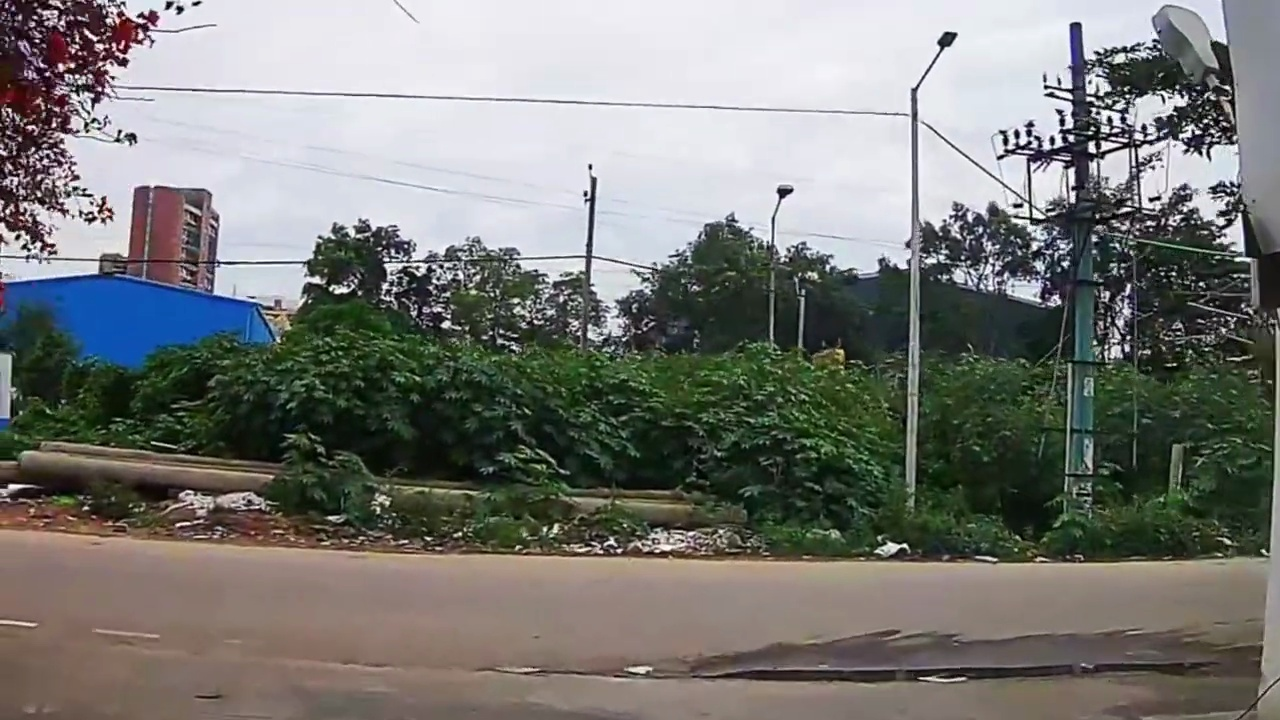garbage: (623, 521, 746, 560), (201, 492, 277, 529), (881, 533, 904, 557)
